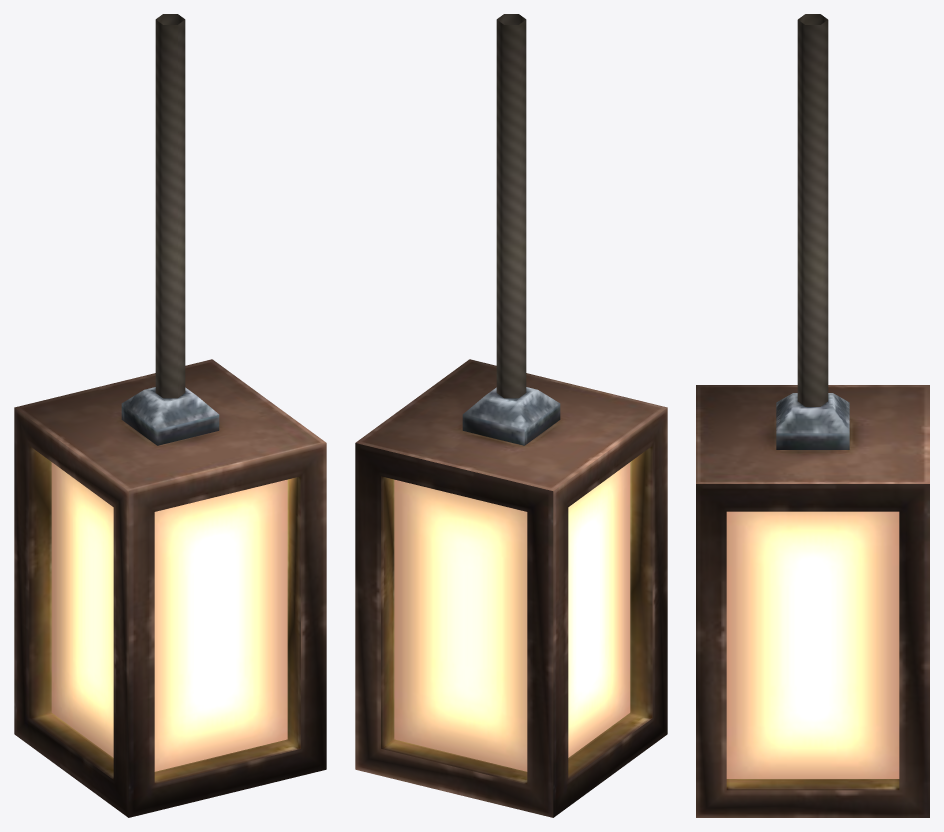
File: lamp.fbx
3 renders of one model, left to right at view 1: azimuth 30°, elevation 25°; view 2: azimuth 150°, elevation 25°; view 3: azimuth 270°, elevation 25°, orthographic. The views are drawn at different scales.
Visible parts, largest first — view 1: lamp; view 2: lamp; view 3: lamp.
Part boxes in pixels (bbox=[...]): lamp: bbox=[14, 14, 326, 817]; lamp: bbox=[355, 14, 667, 817]; lamp: bbox=[696, 14, 929, 817].
Size of the model in its own units: 41.42 by 146 by 41.42.
